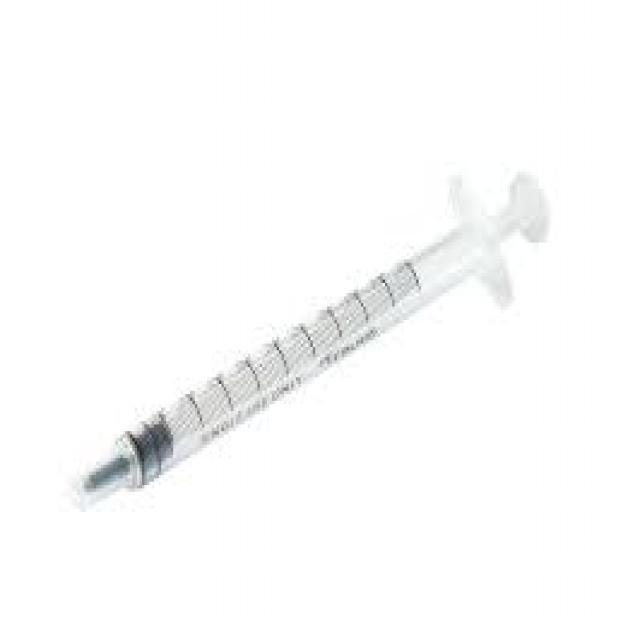syringe: (68, 158, 580, 567)
